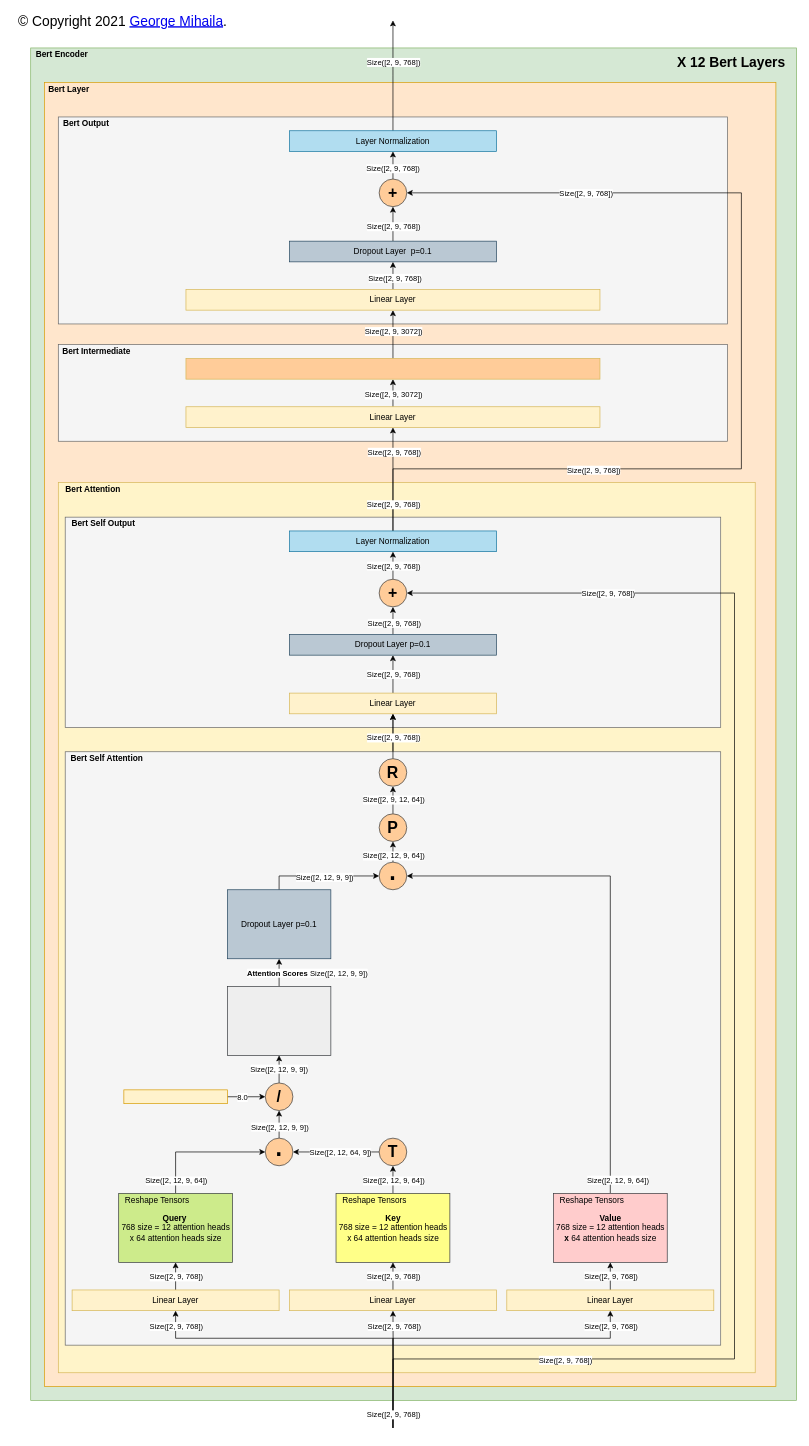
Image size: 809x1446. Some labels were removed from this diagram. The shapes that lost their labels are listed below. From the top down, each one's centre as x and y in pixels, then its label:
At (392,368): "Gelu Activation Function".
At (279,1020): "Softmax Layer".
At (175,1096): "sqrt(64 attention head size)".
